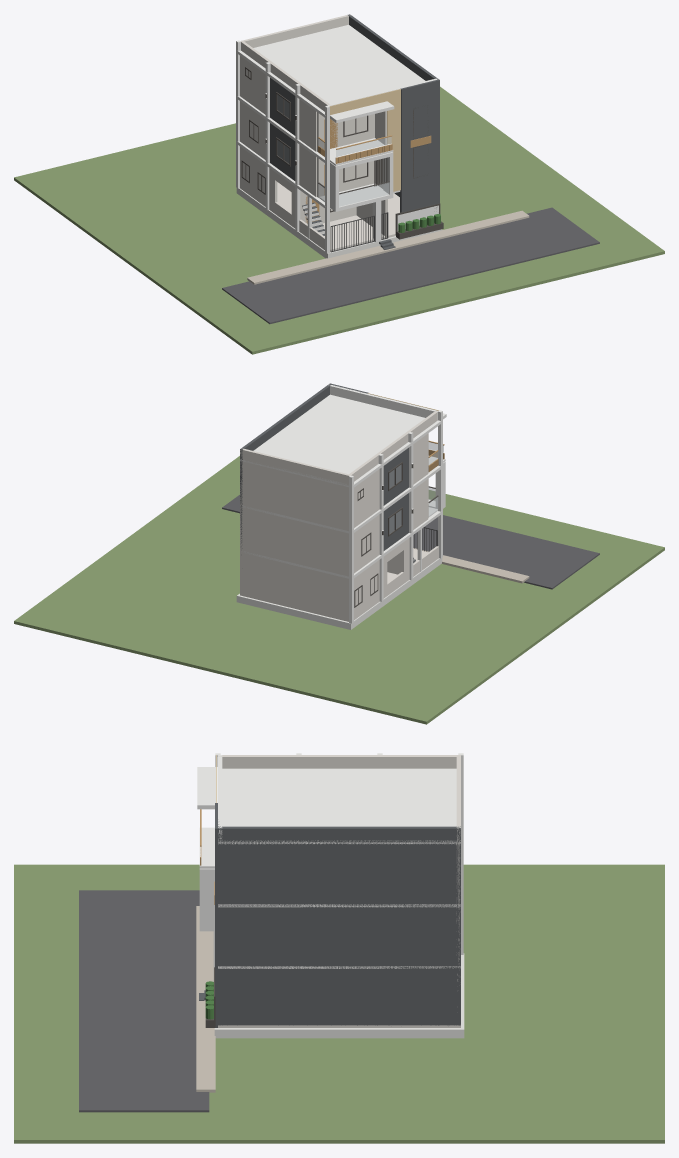
The model's file is duplex_2000sqft.glb.
3 views of the same model, one above another, from view 1: azimuth 30°, elevation 25°; view 2: azimuth 150°, elevation 25°; view 3: azimuth 270°, elevation 25° (orthographic). The views are drawn at different scales.
Parts seen in each view (by area): view 1: Surrounding_Ground, Public_Road_Front, Slab_Roof_Terrace, Tower_Charcoal_Front, West_Bay1_Wall, Sidewalk_Pavement, Slab_Ground_Floor, SF_Bed_Front_Wall, Building_Plinth_Base, FF_Bed_Front_Wall, Parapet_South, Longitudinal_Tower_Wall (+19 smaller); view 2: Surrounding_Ground, Wall_Rear_Solid, Slab_Roof_Terrace, Public_Road_Front, West_Bay1_Wall, Building_Plinth_Base, Parapet_South, Parapet_North, Parapet_East, Parapet_West, West_Center_Panel_SF, West_Center_Panel_FF (+8 smaller); view 3: Surrounding_Ground, Wall_East_Solid, Public_Road_Front, Slab_Roof_Terrace, Parapet_East, Parapet_West, Building_Plinth_Base, Sidewalk_Pavement, Slab_Second_Floor, Tower_Charcoal_Front, SF_Roof_Canopy, FF_Chamfer_Box_Right (+4 smaller).
Boxes of the visible parts, x1,y1,x2,y2 form: Surrounding_Ground: (14,86,664,354); Public_Road_Front: (222,207,599,324); Slab_Roof_Terrace: (253,24,425,104); Tower_Charcoal_Front: (400,79,439,212); West_Bay1_Wall: (240,56,265,206); Sidewalk_Pavement: (247,210,529,284); Slab_Ground_Floor: (277,182,399,251); SF_Bed_Front_Wall: (317,112,374,151); Building_Plinth_Base: (236,188,442,258); FF_Bed_Front_Wall: (317,157,374,197); Parapet_South: (241,15,350,47); Longitudinal_Tower_Wall: (356,111,387,237); Surrounding_Ground: (14,456,664,724); Wall_Rear_Solid: (240,460,348,620); Slab_Roof_Terrace: (240,394,425,487); Public_Road_Front: (222,495,599,589); West_Bay1_Wall: (354,469,379,619); Building_Plinth_Base: (236,558,442,629); Parapet_South: (240,448,351,485); Parapet_North: (328,384,437,420); Parapet_East: (240,384,331,459); Parapet_West: (347,410,438,485); West_Center_Panel_SF: (383,447,408,505); West_Center_Panel_FF: (383,493,408,550); Surrounding_Ground: (14,864,664,1143); Wall_East_Solid: (218,842,460,1025); Public_Road_Front: (79,890,209,1112); Slab_Roof_Terrace: (218,768,460,844); Parapet_East: (218,826,460,842); Parapet_West: (218,755,460,768); Building_Plinth_Base: (214,953,464,1038); Sidewalk_Pavement: (196,906,215,1092); Slab_Second_Floor: (218,904,460,907); Tower_Charcoal_Front: (215,803,219,1027); SF_Roof_Canopy: (197,767,217,809); FF_Chamfer_Box_Right: (199,874,214,926).
Size of the model in its own units: 30 by 10.9 by 30.
